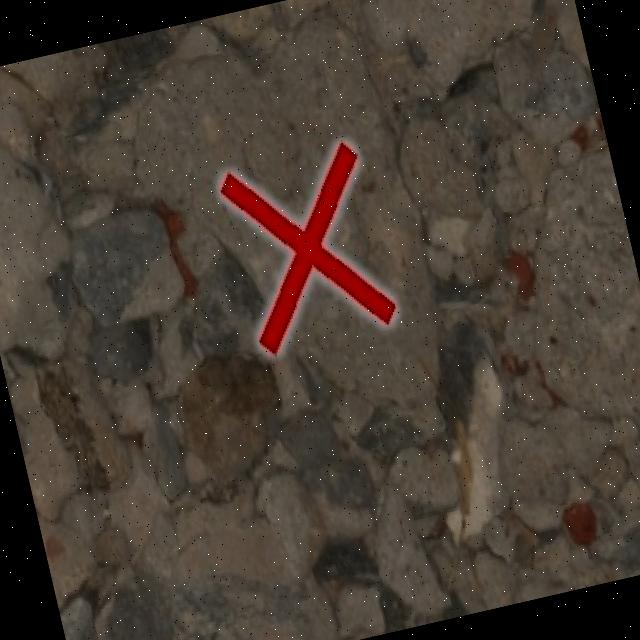x_marker: (215, 138, 398, 355)
